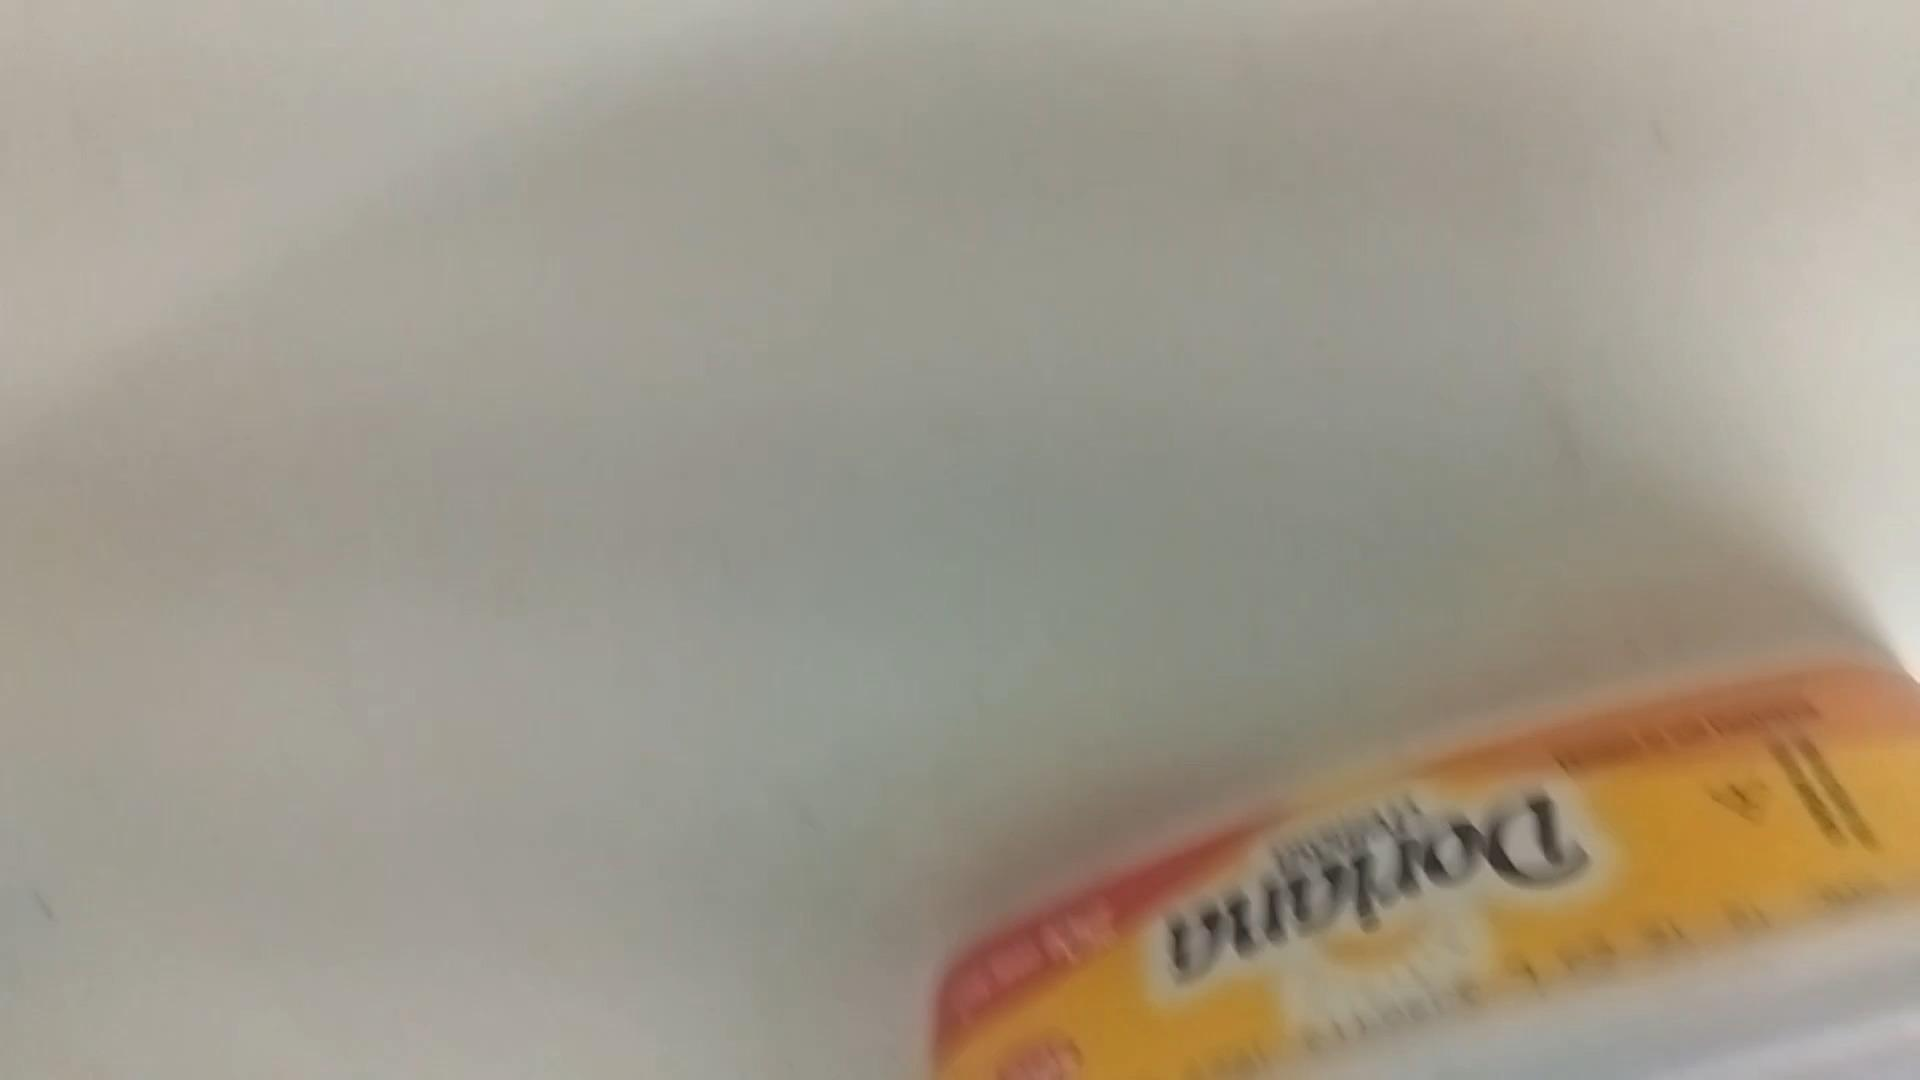butter: (918, 645, 1920, 1080)
